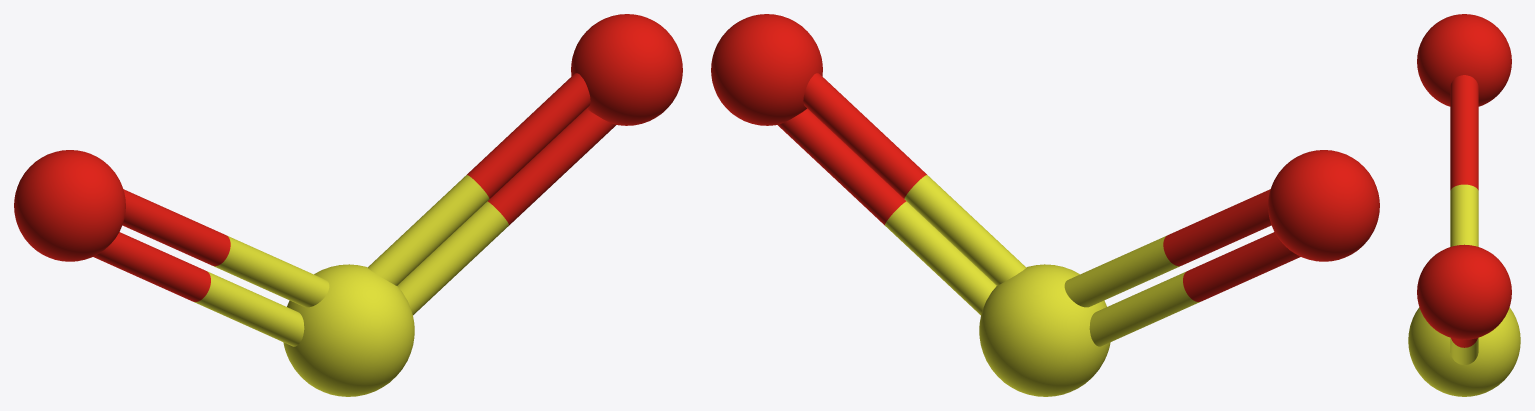
Rendered from SulfurDioxide.glb.
The picture shows the model from 3 angles, left to right: view 1: azimuth 30°, elevation 25°; view 2: azimuth 150°, elevation 25°; view 3: azimuth 270°, elevation 25°; orthographic projection. The views are drawn at different scales.
Bounding box in the file's own units: 3.07 × 1.36 × 0.54.
